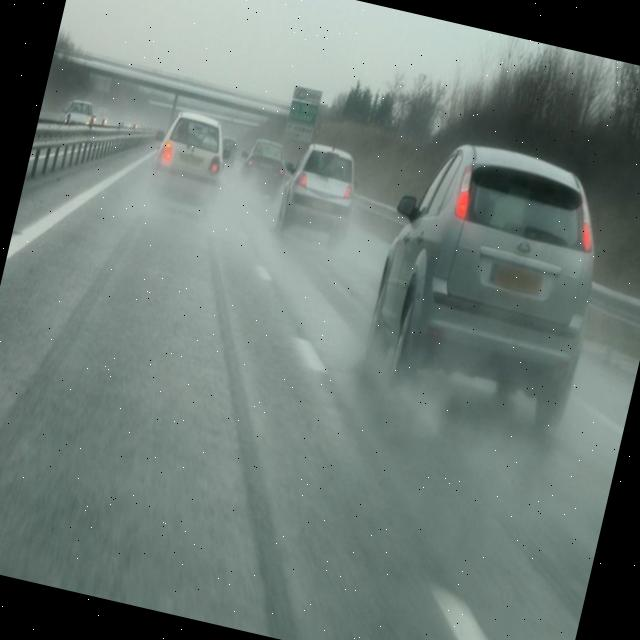car: (349, 126, 626, 438), (270, 136, 365, 241), (151, 106, 235, 186), (230, 135, 293, 216), (61, 96, 102, 130), (218, 134, 241, 168)
